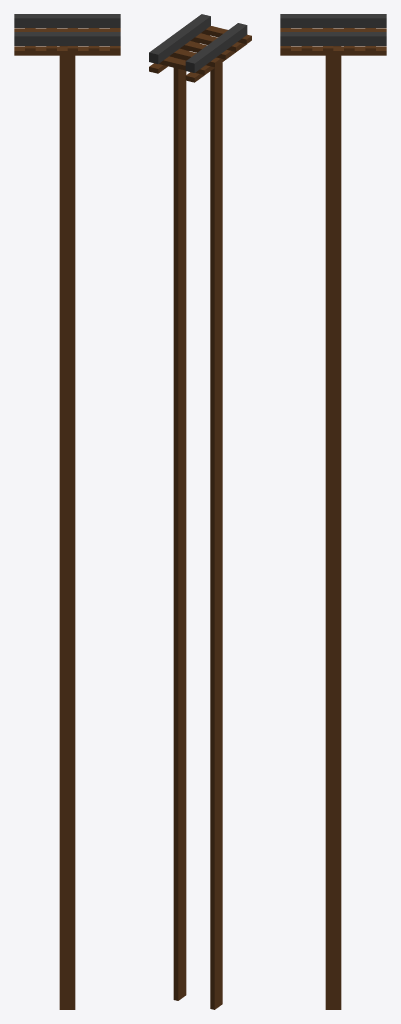
The model's file is Railtrack.fbx.
3 renders of one model, left to right at view 1: azimuth 90°, elevation 25°; view 2: azimuth 150°, elevation 25°; view 3: azimuth 270°, elevation 25°, orthographic.
Visible parts, largest first — view 1: wood, metal; view 2: wood, metal; view 3: wood, metal.
Boxes of the visible parts, x1,y1,x2,y2 form: wood: (14,28,120,1009); metal: (14,14,120,45); wood: (149,26,251,1009); metal: (149,14,247,72); wood: (280,28,386,1009); metal: (280,14,386,45).
Bounding box in the file's own units: 120 × 2020 × 200.
